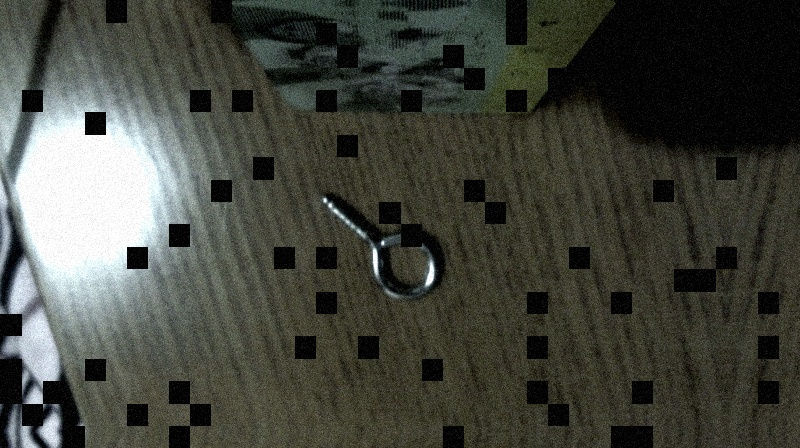O001: (316, 188, 447, 303)
